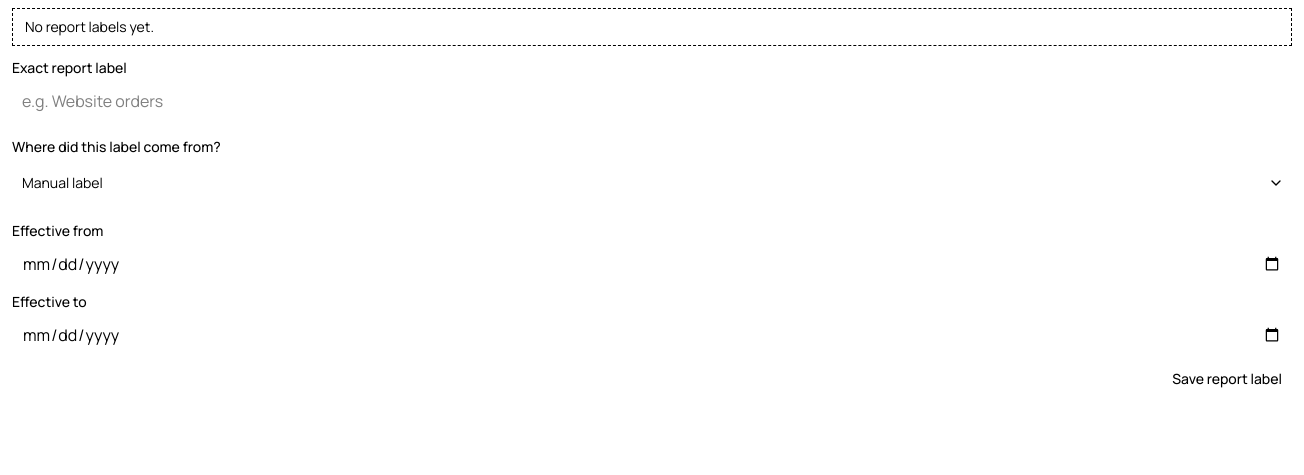
Test case: ChannelReportLabelForm (D08) › retains every input on conflict and surfaces the server message
Press the mouse on the dropdown named "Where did this label come from?" at (62, 182), box [12, 164, 1292, 200]
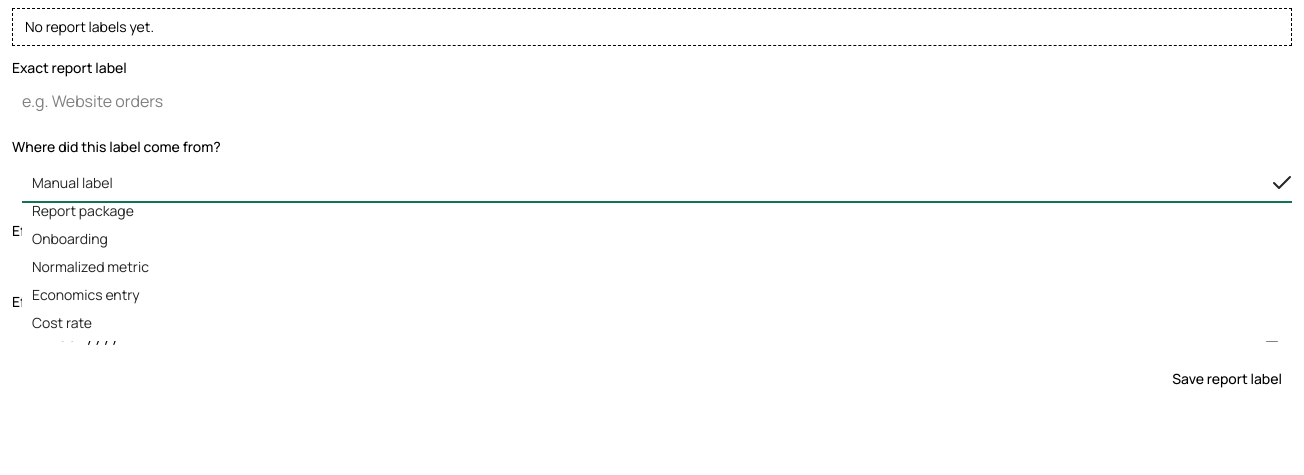
Click the option "Onboarding" at (70, 238), box [32, 228, 108, 248]
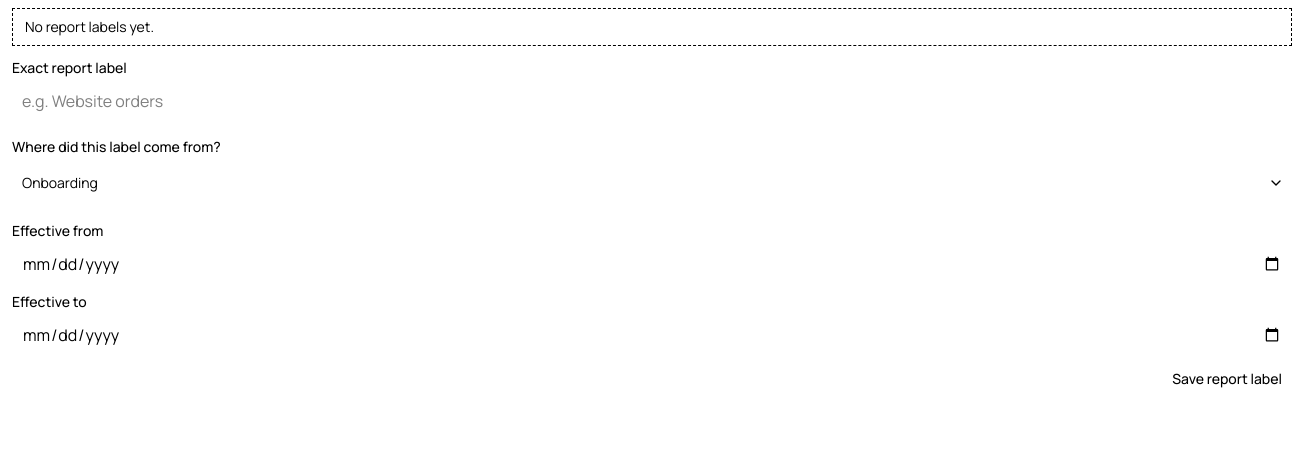
Type "Taken label" into the field labelled "Exact report label" at (652, 101), box [12, 85, 1292, 117]
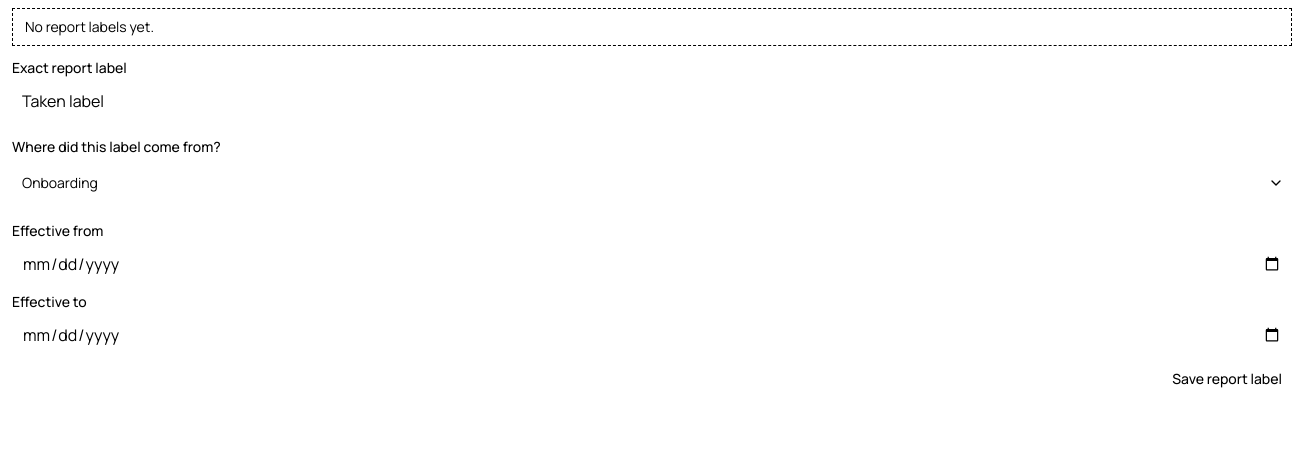
Type "2026-02-01" into the date field labelled "Effective from" at (652, 264), box [12, 248, 1292, 280]
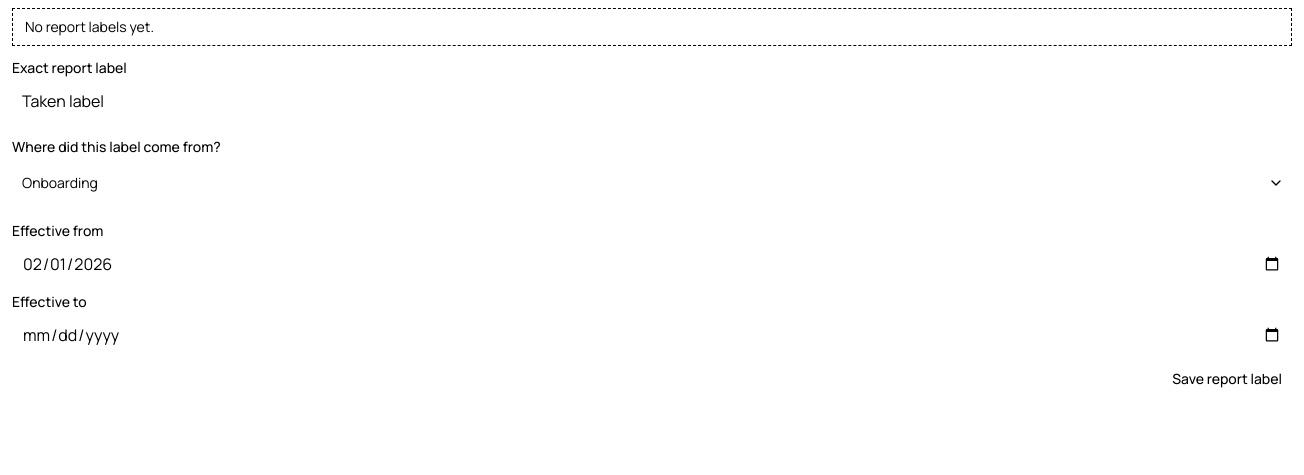
Click the button "Save report label" at (1227, 379), box [1162, 363, 1292, 395]
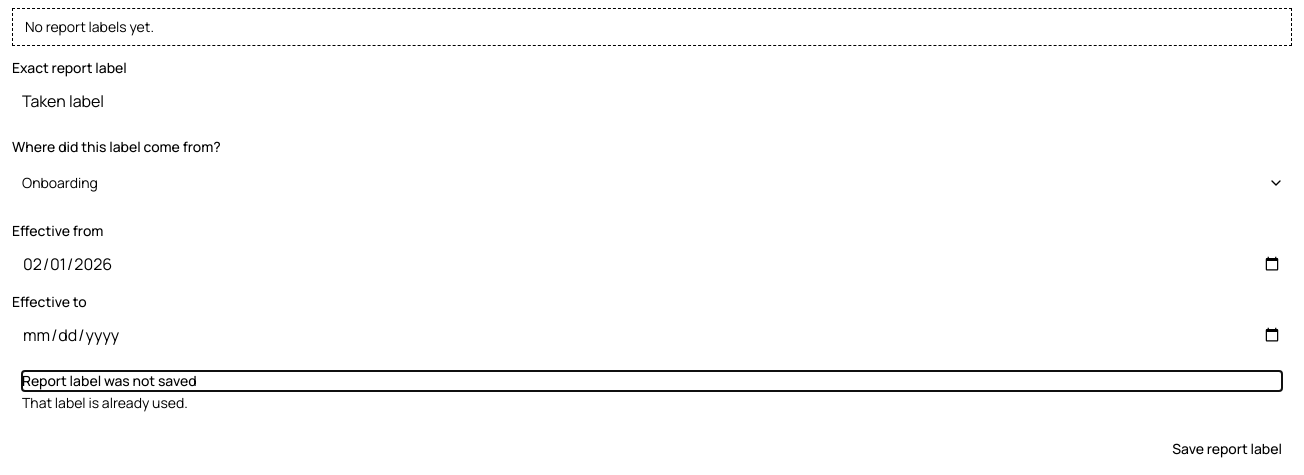
Check: the dropdown named "Where did this label come from?" reads "Onboarding", box [12, 164, 1292, 200]
Check: the text "Report label was not saved" is shown, box [22, 371, 197, 390]
Check: the text "That label is already used." is shown, box [22, 393, 188, 412]
